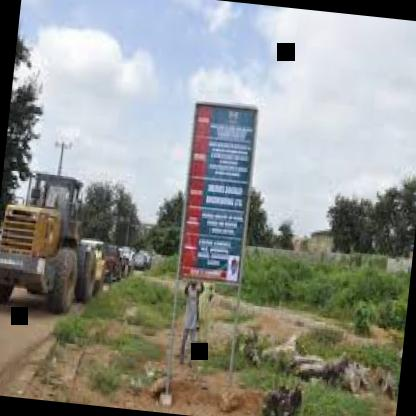car: (0, 152, 114, 329), (94, 223, 130, 287)
